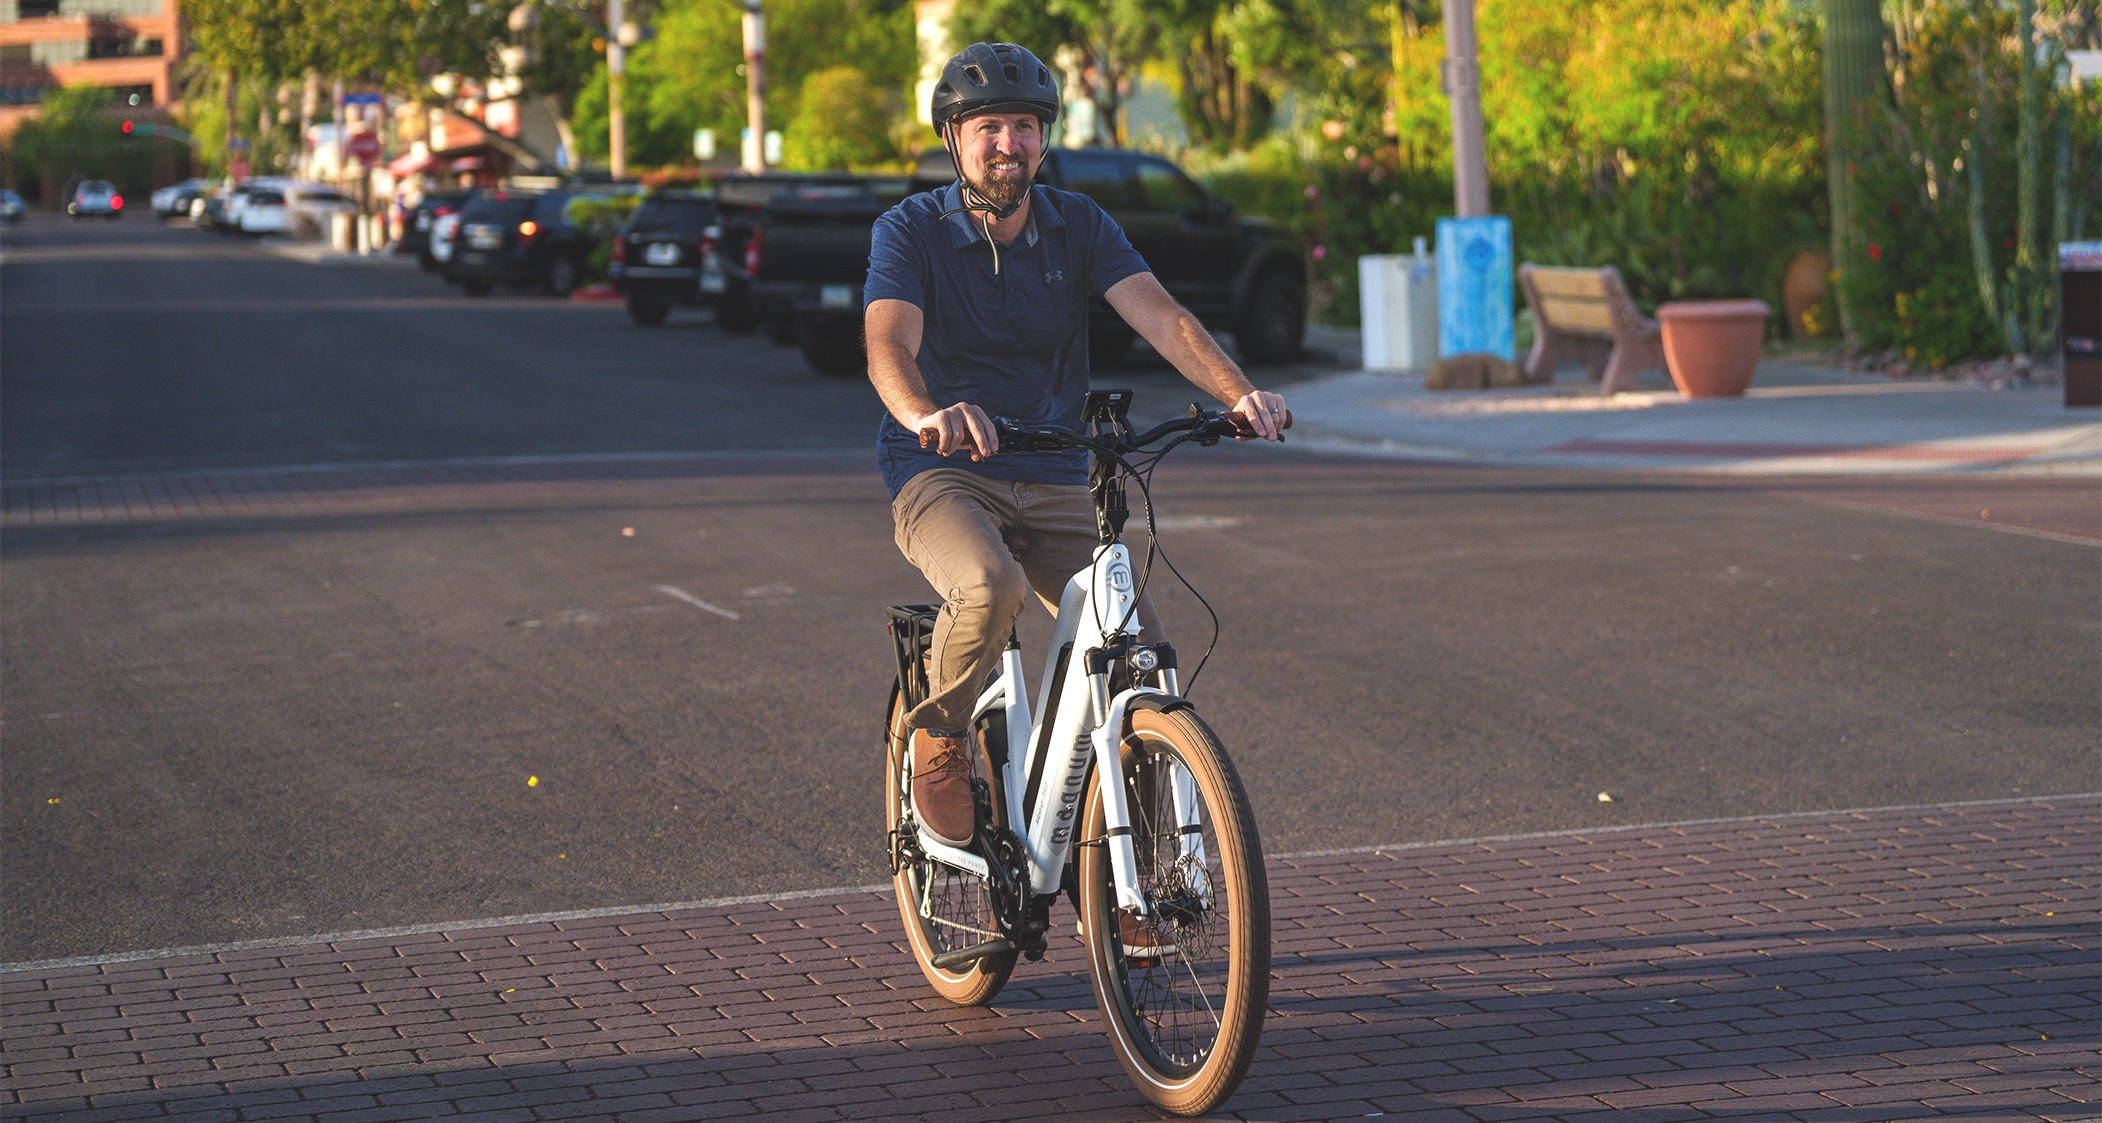Bicycle: (863, 389, 1269, 1123)
